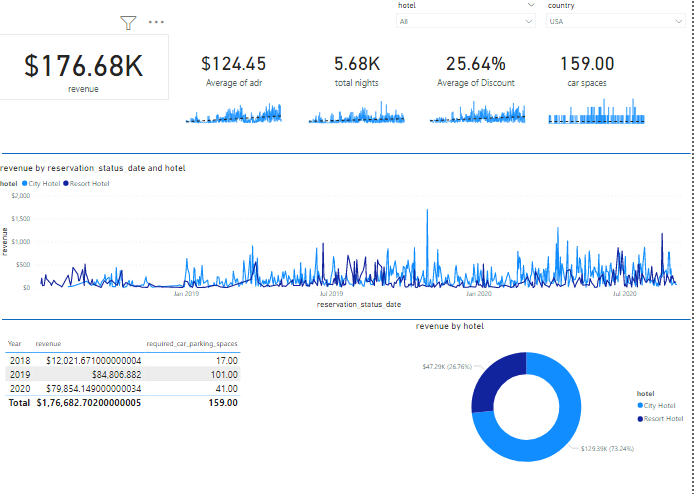

The page's visual inventory and layout, read from the dashboard file:
{"tool":"powerbi","page":{"name":"Page 1","canvas":[1280,920],"ordinal":0},"visuals":[{"type":"shape","box":[9.2,258.1,1270.3,57.2],"z":0},{"type":"card","fields":{"Values":["Sum(Query1.revenue)"]},"box":[0,65.6,318,122.9],"z":1000},{"type":"card","fields":{"Values":["Avg(Query1.adr)"]},"box":[318,65.6,239.3,122.9],"z":2000},{"type":"card","fields":{"Values":["Query1.total nights"]},"box":[544.1,65.6,237.6,122.9],"z":3000},{"type":"card","fields":{"Values":["Avg(Query1.Discount)"]},"box":[763.7,65.6,239.3,122.9],"z":4000},{"type":"lineChart","fields":{"Y":["Sum(Query1.revenue)"],"Category":["Query1.reservation_status_date"],"Series":["Query1.hotel"]},"box":[0,302.4,1279.5,274.7],"z":5000},{"type":"shape","box":[9.2,564.2,1270.3,57.2],"z":6000},{"type":"slicer","fields":{"Values":["Query1.country"]},"box":[1003,0,277,65.6],"z":7000},{"type":"slicer","fields":{"Values":["Query1.hotel"]},"box":[726,0,277,65.6],"z":7001},{"type":"card","fields":{"Values":["Sum(Query1.required_car_parking_spaces)"]},"box":[968.6,65.6,239.3,122.9],"z":7002},{"type":"lineChart","fields":{"Y":["Sum(Query1.adr)"],"Category":["Query1.reservation_status_date"]},"box":[334.3,172.1,204.9,65.6],"z":7003},{"type":"lineChart","fields":{"Y":["Query1.total nights"],"Category":["Query1.reservation_status_date"]},"box":[560.5,172.1,204.9,65.6],"z":7004},{"type":"lineChart","fields":{"Y":["Sum(Query1.Discount)"],"Category":["Query1.reservation_status_date"]},"box":[783.4,172.1,204.9,65.6],"z":7005},{"type":"lineChart","fields":{"Y":["Sum(Query1.required_car_parking_spaces)"],"Category":["Query1.reservation_status_date"]},"box":[1003,172.1,204.9,65.6],"z":7006},{"type":"donutChart","fields":{"Category":["Query1.hotel"],"Y":["Sum(Query1.revenue)"]},"box":[767,593.7,512.5,302.4],"z":7007},{"type":"tableEx","fields":{"Values":["Query1.reservation_status_date.Variation.Date Hierarchy.Year","Sum(Query1.revenue)","Sum(Query1.required_car_parking_spaces)","Sum(Query1.Column)","Query1.total nights"]},"box":[9.2,621.3,636.1,250.7],"z":7008}]}

Visuals, with their boxes in screenshot pixels (x1, y1, x2, y2), scaled from the page's 1280x920 canvas onto the 695x494 screenshot:
shape: (left=5, top=139, right=694, bottom=169)
card - Sum(Query1.revenue): (left=0, top=35, right=173, bottom=101)
card - Avg(Query1.adr): (left=173, top=35, right=303, bottom=101)
card - Query1.total nights: (left=295, top=35, right=424, bottom=101)
card - Avg(Query1.Discount): (left=415, top=35, right=545, bottom=101)
lineChart - Sum(Query1.revenue) x Query1.reservation_status_date: (left=0, top=162, right=694, bottom=310)
shape: (left=5, top=303, right=694, bottom=334)
slicer - Query1.country: (left=545, top=0, right=694, bottom=35)
slicer - Query1.hotel: (left=394, top=0, right=545, bottom=35)
card - Sum(Query1.required_car_parking_spaces): (left=526, top=35, right=656, bottom=101)
lineChart - Sum(Query1.adr) x Query1.reservation_status_date: (left=182, top=92, right=293, bottom=128)
lineChart - Query1.total nights x Query1.reservation_status_date: (left=304, top=92, right=416, bottom=128)
lineChart - Sum(Query1.Discount) x Query1.reservation_status_date: (left=425, top=92, right=537, bottom=128)
lineChart - Sum(Query1.required_car_parking_spaces) x Query1.reservation_status_date: (left=545, top=92, right=656, bottom=128)
donutChart - Query1.hotel x Sum(Query1.revenue): (left=416, top=319, right=694, bottom=481)
tableEx - Query1.reservation_status_date.Variation.Date Hierarchy.Year x Sum(Query1.revenue): (left=5, top=334, right=350, bottom=468)
